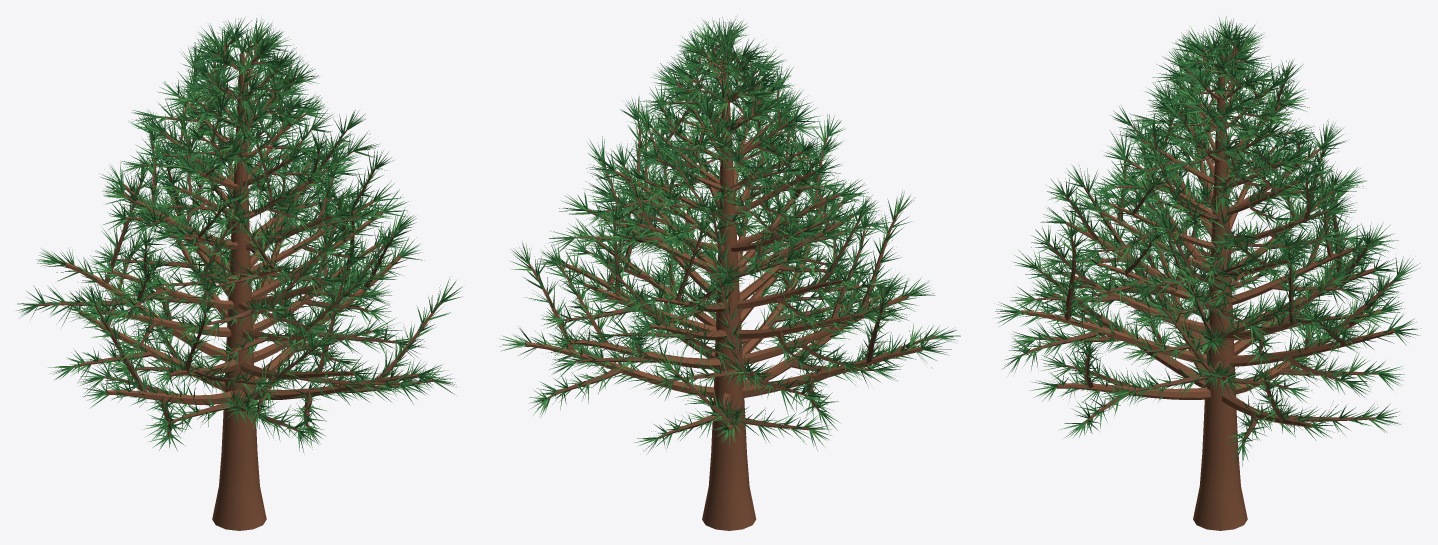
The picture shows the model from 3 angles, left to right: view 1: azimuth 30°, elevation 25°; view 2: azimuth 150°, elevation 25°; view 3: azimuth 270°, elevation 25°; orthographic projection.
Parts seen in each view (by area): view 1: body; view 2: body; view 3: body.
Part boxes in pixels (<box>): body: <box>16,16,462,530</box>; body: <box>499,17,960,530</box>; body: <box>994,16,1420,530</box>.
Size of the model in its own units: 6.66 by 8.22 by 6.41.
1 material, 1 textured.
